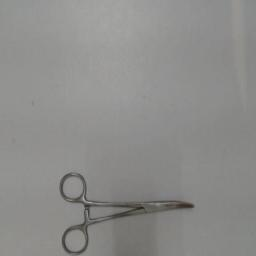Crile Artery Forceps: (56, 164, 200, 256)
